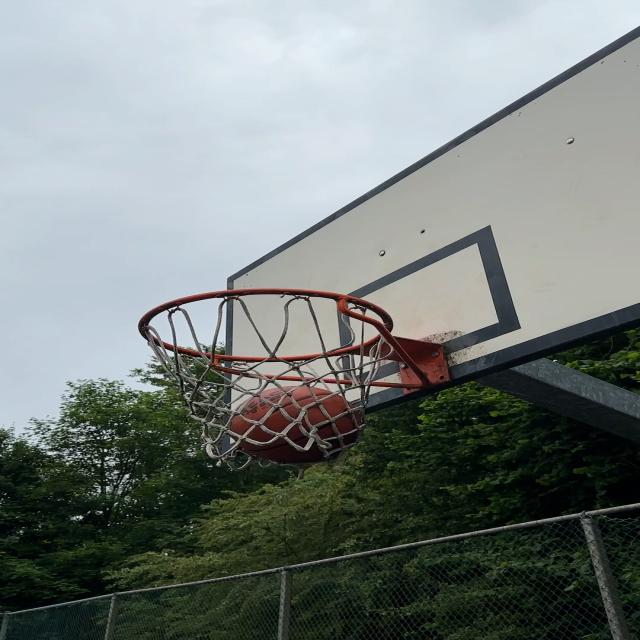Goal: (233, 382, 363, 460)
